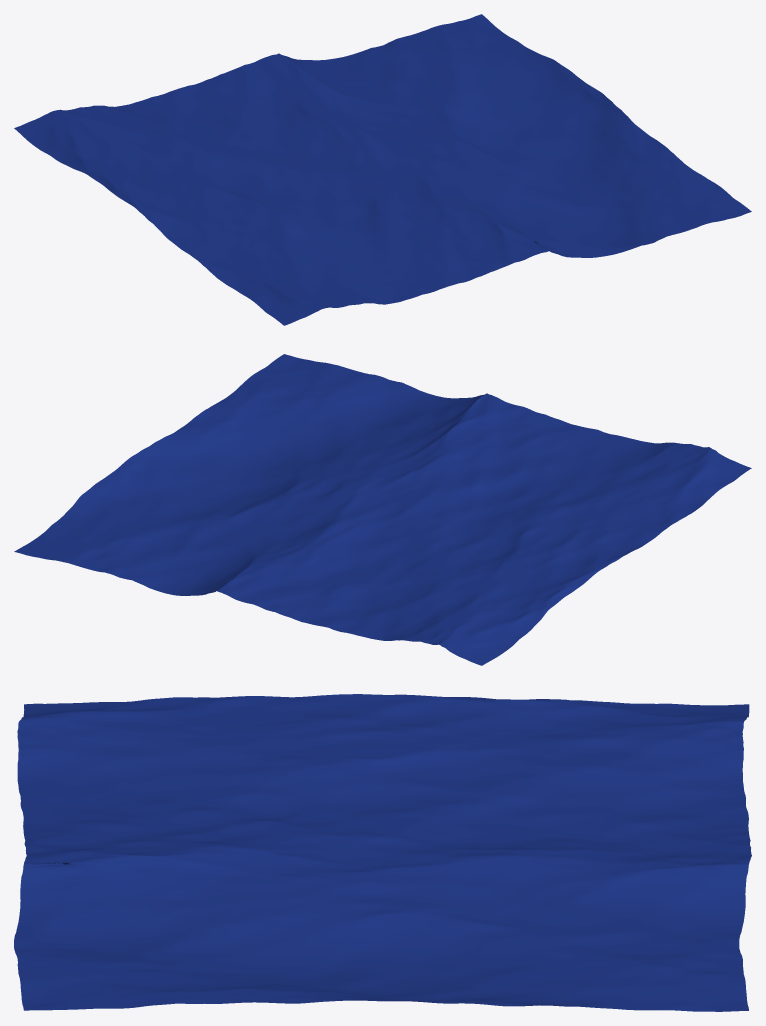
The model's file is supplied-ocean.glb.
The picture shows the model from 3 angles, top to bottom: view 1: azimuth 30°, elevation 25°; view 2: azimuth 150°, elevation 25°; view 3: azimuth 270°, elevation 25°; orthographic projection. The views are drawn at different scales.
Parts seen in each view (by area): view 1: GEO-SuppliedOcean; view 2: GEO-SuppliedOcean; view 3: GEO-SuppliedOcean.
Part boxes in pixels (x1,y1,x2,y2): GEO-SuppliedOcean: (14, 14, 751, 325); GEO-SuppliedOcean: (14, 354, 751, 665); GEO-SuppliedOcean: (14, 694, 751, 1011).
Size of the model in its own units: 55.91 by 2.4 by 55.97.
